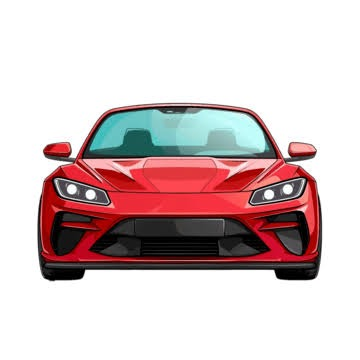car: (33, 106, 331, 283)
